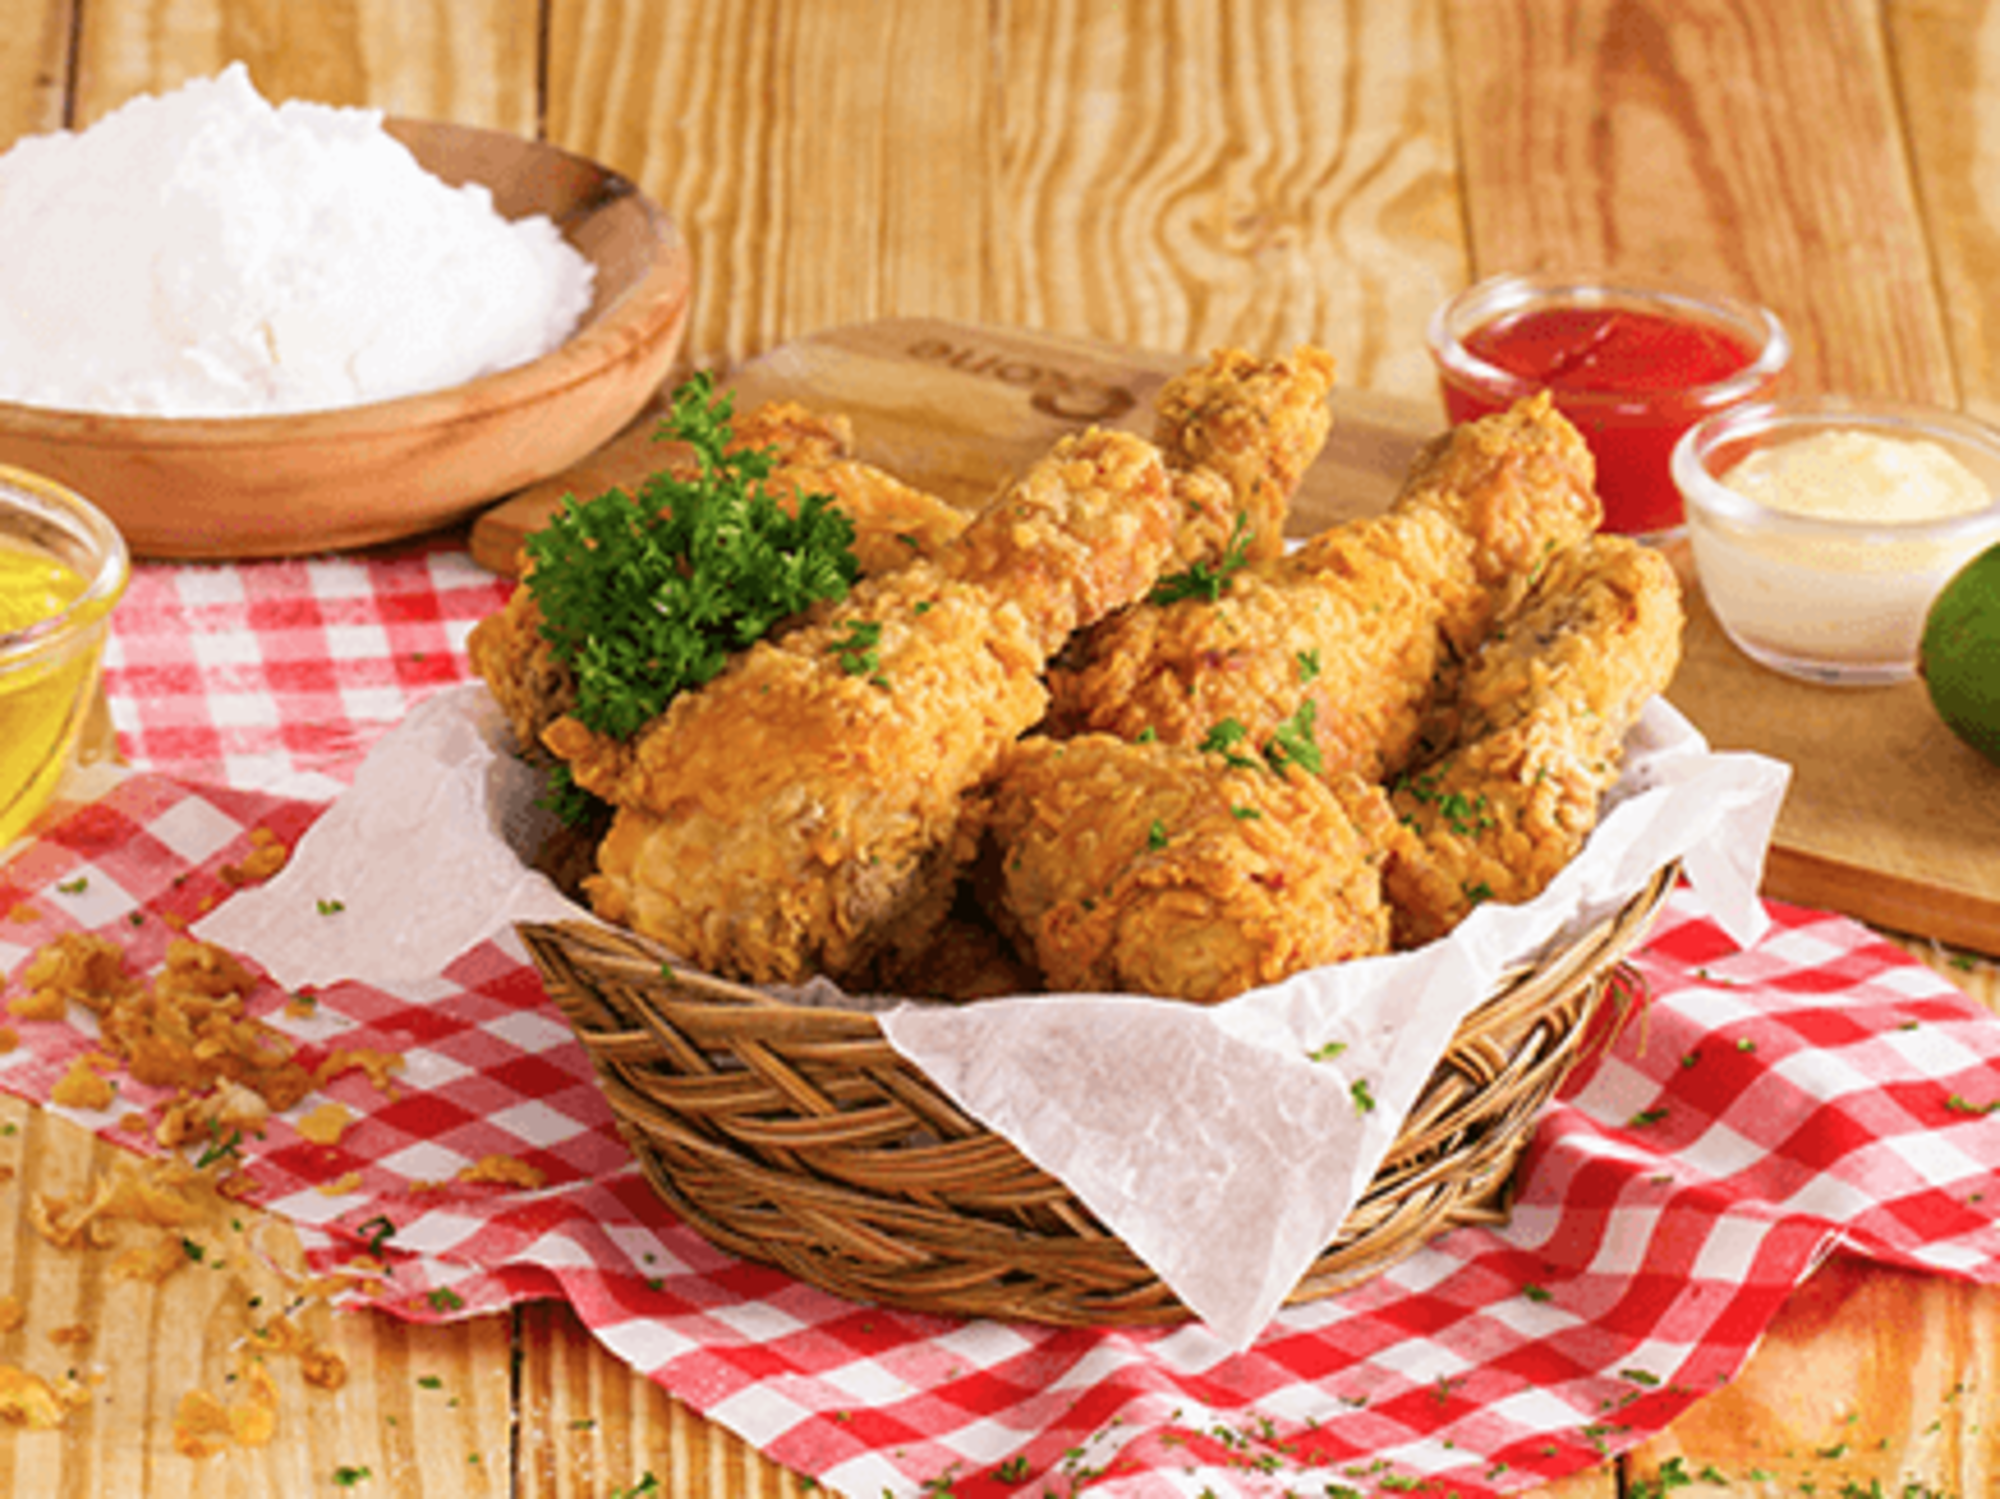Ayam: (570, 444, 1176, 963), (1102, 383, 1638, 786), (978, 704, 1361, 993)
